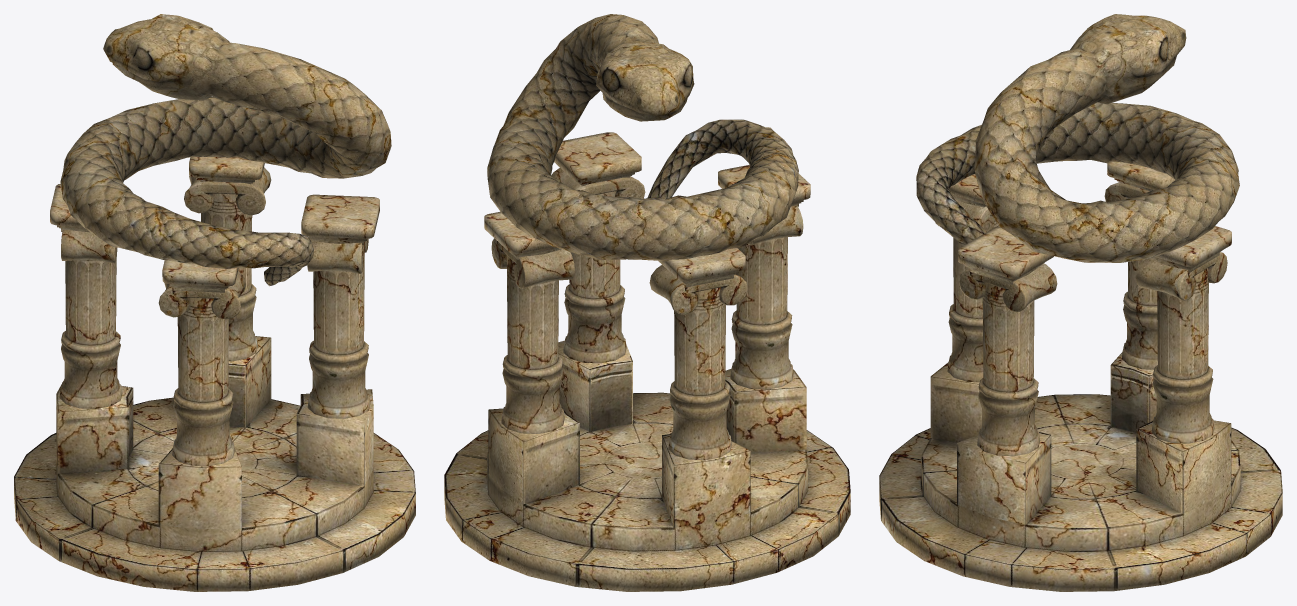
Rendered from statue-du-serpent.glb.
The picture shows the model from 3 angles, left to right: view 1: azimuth 30°, elevation 25°; view 2: azimuth 150°, elevation 25°; view 3: azimuth 270°, elevation 25°; orthographic projection.
Parts seen in each view (by area): view 1: stone, snakelp; view 2: stone, snakelp; view 3: stone, snakelp.
Part boxes in pixels (x1,y1,x2,y2): stone: (14,156,415,591); snakelp: (60,14,391,286); stone: (444,132,850,591); snakelp: (487,14,798,261); stone: (879,161,1282,591); snakelp: (916,14,1239,262).
Size of the model in its own units: 7.15 by 9.24 by 7.15.
Materials: 2 (2 with a texture image).
